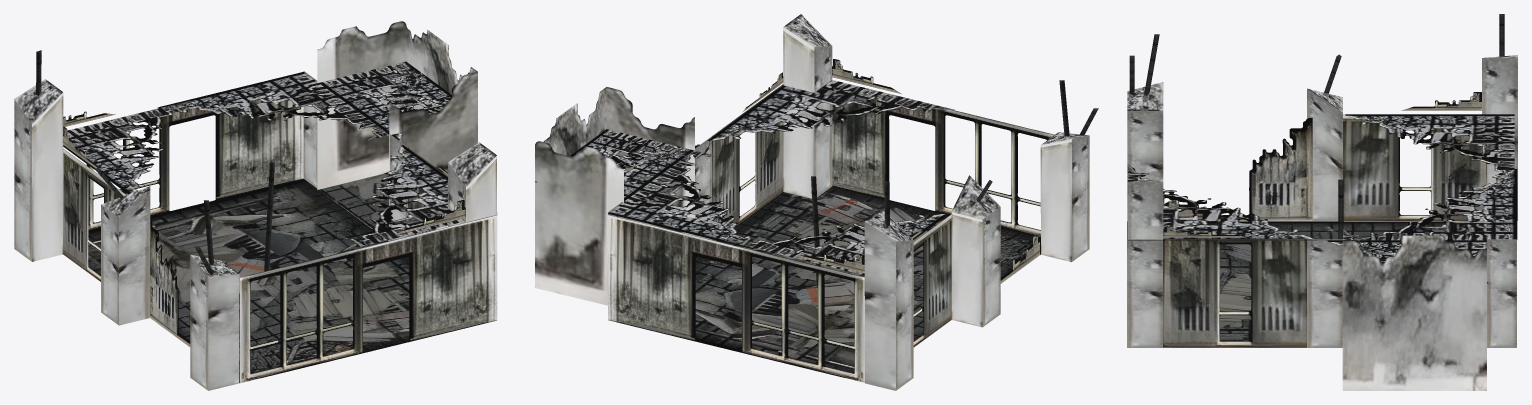
File: s_sensorcontrol_dam_hdtex.glb
The picture shows the model from 3 angles, left to right: view 1: azimuth 30°, elevation 25°; view 2: azimuth 150°, elevation 25°; view 3: azimuth 270°, elevation 25°; orthographic projection.
Parts seen in each view (by area): view 1: L_SensorControl; view 2: L_SensorControl; view 3: L_SensorControl.
Part boxes in pixels (left/top/right/bottom): L_SensorControl: left=14, top=21, right=497, bottom=390; L_SensorControl: left=535, top=14, right=1098, bottom=390; L_SensorControl: left=1127, top=14, right=1517, bottom=390.
Bounding box in the file's own units: 15 × 7.43 × 13.04.
1 material, 1 textured.
